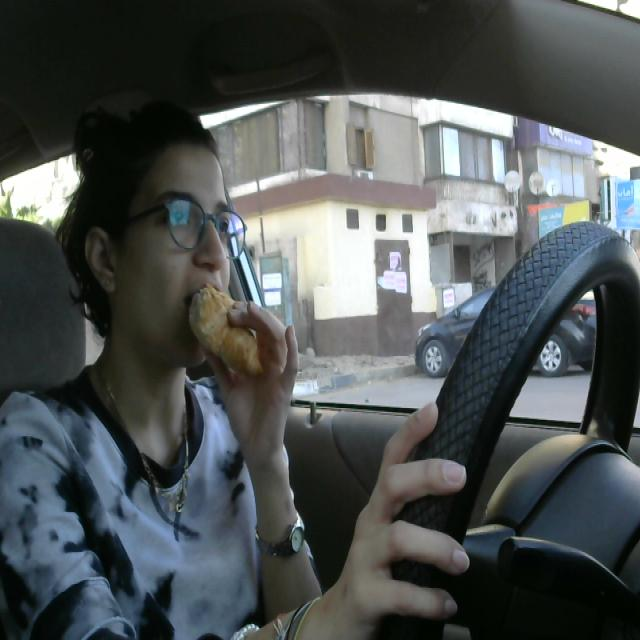eating: (185, 276, 276, 394)
